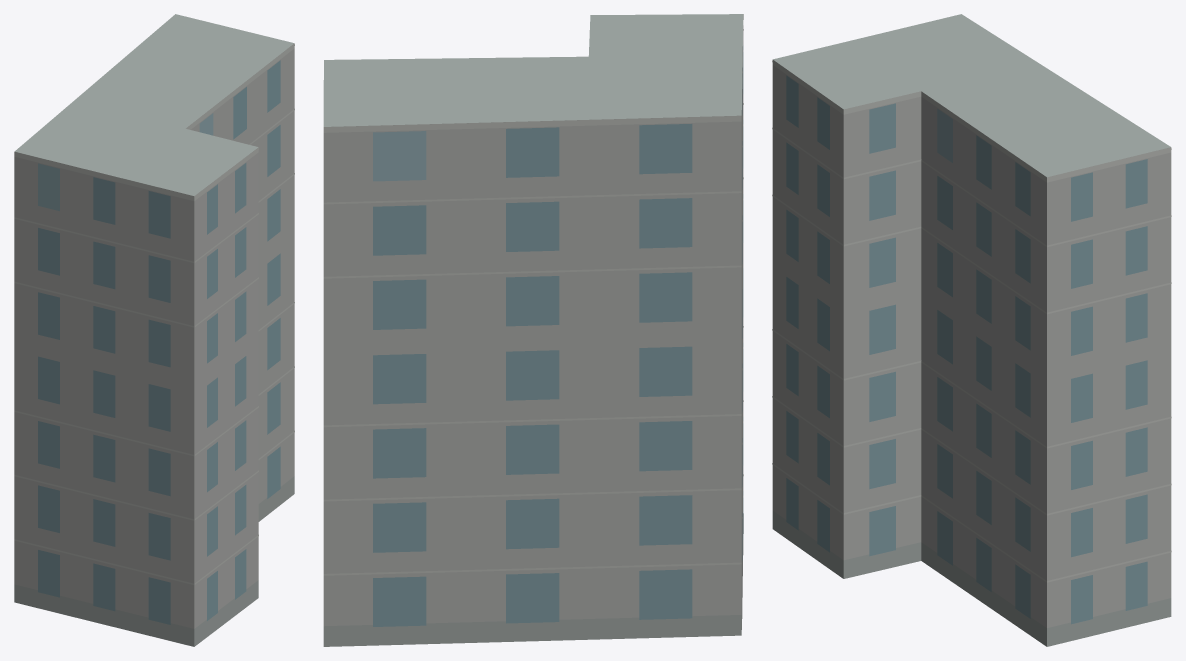
File: survey-upis-33027995.glb
3 renders of one model, left to right at view 1: azimuth 30°, elevation 25°; view 2: azimuth 150°, elevation 25°; view 3: azimuth 270°, elevation 25°, orthographic. The views are drawn at different scales.
Visible parts, largest first — view 1: survey-upis-33027995.tmp; view 2: survey-upis-33027995.tmp; view 3: survey-upis-33027995.tmp.
Boxes of the visible parts, box(x1,y1,x2,y2) form: survey-upis-33027995.tmp: box(14, 14, 294, 646); survey-upis-33027995.tmp: box(323, 14, 743, 646); survey-upis-33027995.tmp: box(772, 14, 1171, 646).
Size of the model in its own units: 16.05 by 21.5 by 16.56.
